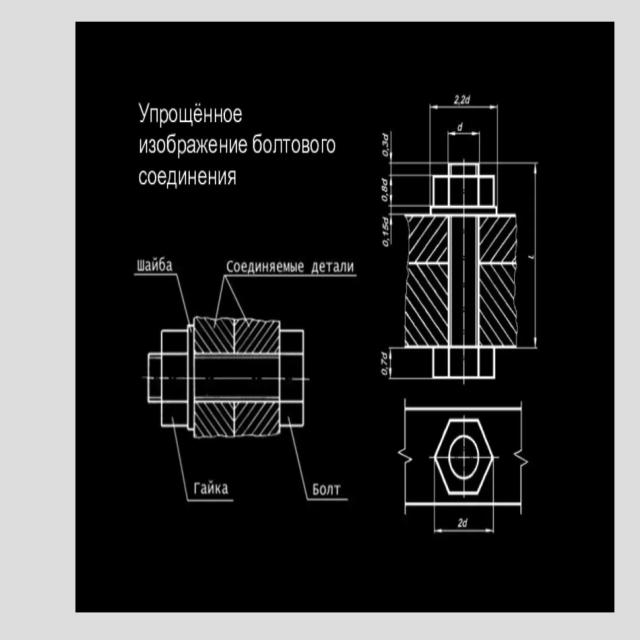marking_line: (532, 164, 538, 347), (432, 105, 497, 112), (436, 527, 493, 534), (449, 132, 480, 139)
numeric: (450, 92, 469, 108), (380, 218, 390, 247), (378, 353, 388, 379), (380, 176, 388, 204), (380, 138, 390, 158)
